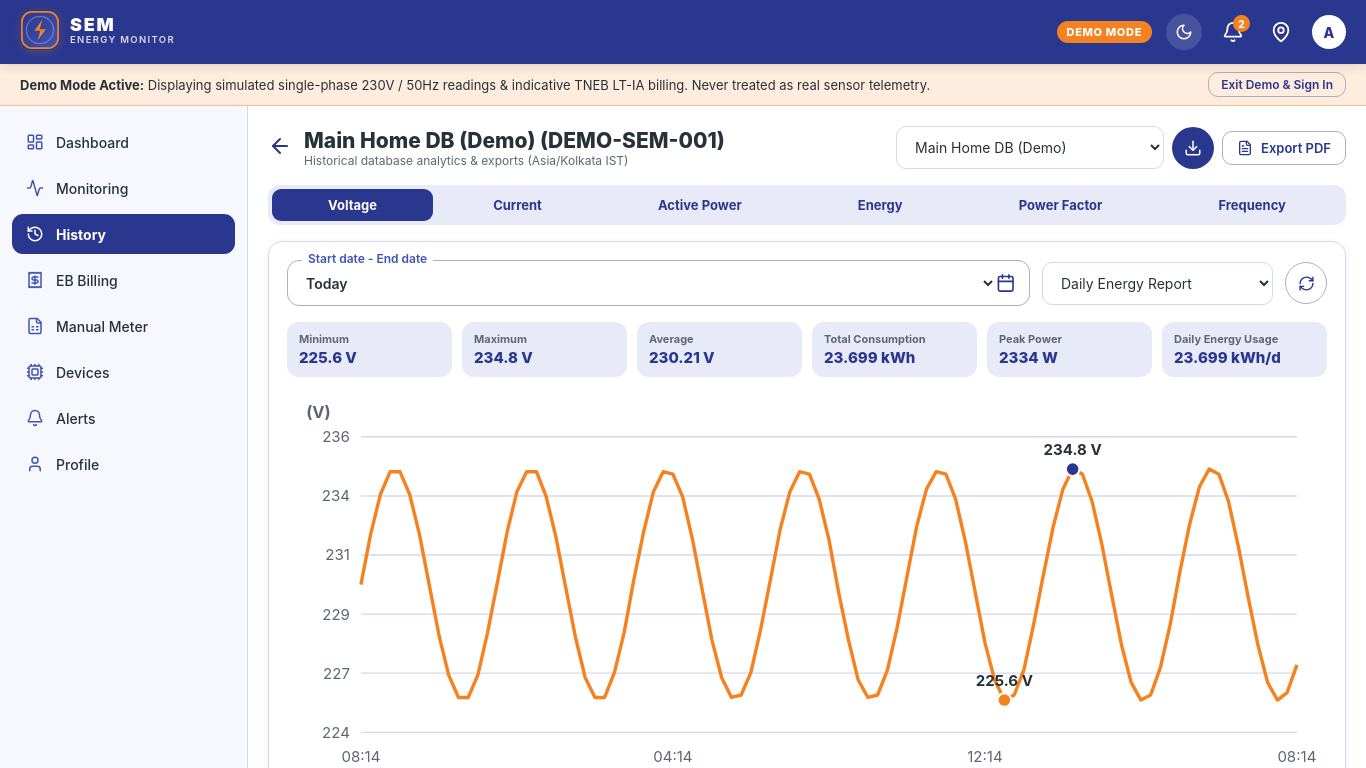
Scenario: Phase 5 Energy History & Report Exports › renders 6 metric tabs, date filters, stats strip, and switches metric tab
Expected: the tab "Voltage" is shown, [272,189,433,221]
Expected: the tab "Current" is shown, [437,189,598,221]
Click the tab "Frequency" at (1252, 205), box [1162,189,1342,221]
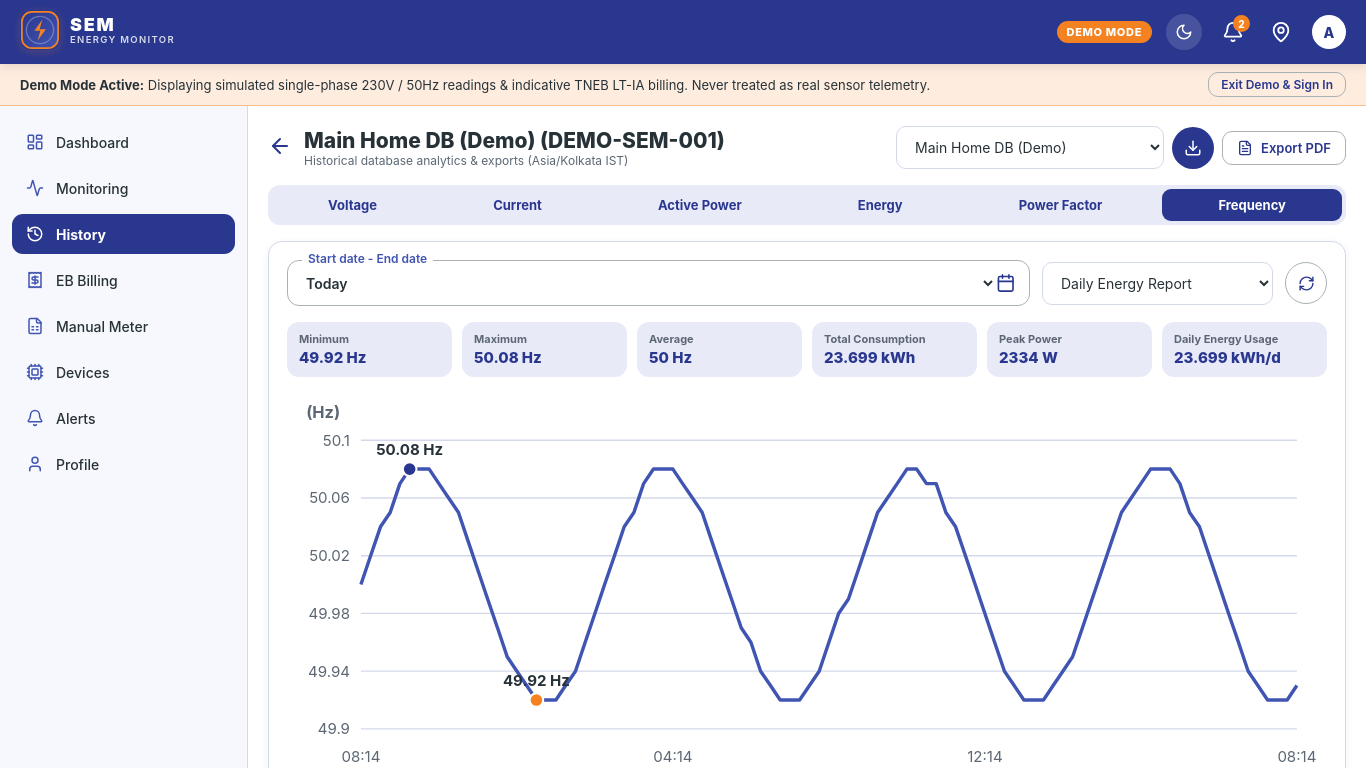
Expected: the text "Total Consumption" is shown, [824,332,926,346]
Expected: the tab "Frequency" is selected, [1162,189,1342,221]
